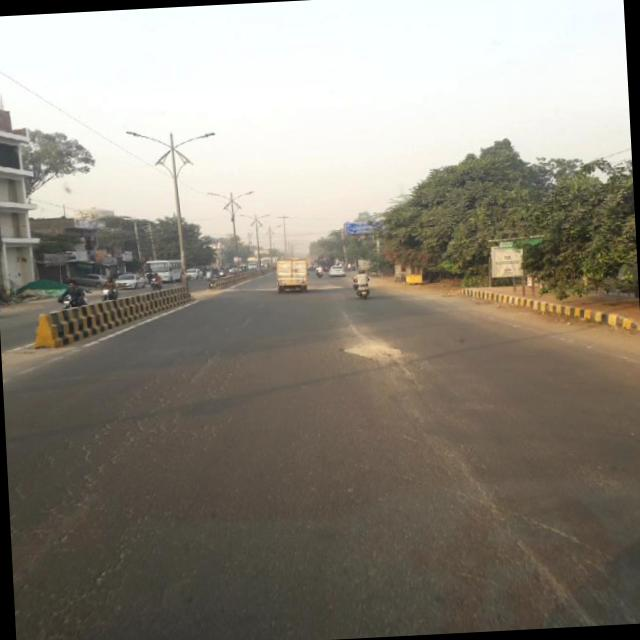crack: (14, 331, 255, 636), (408, 409, 573, 621)
pothole: (328, 326, 424, 389)
